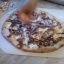pizza: (6, 7, 64, 51)
